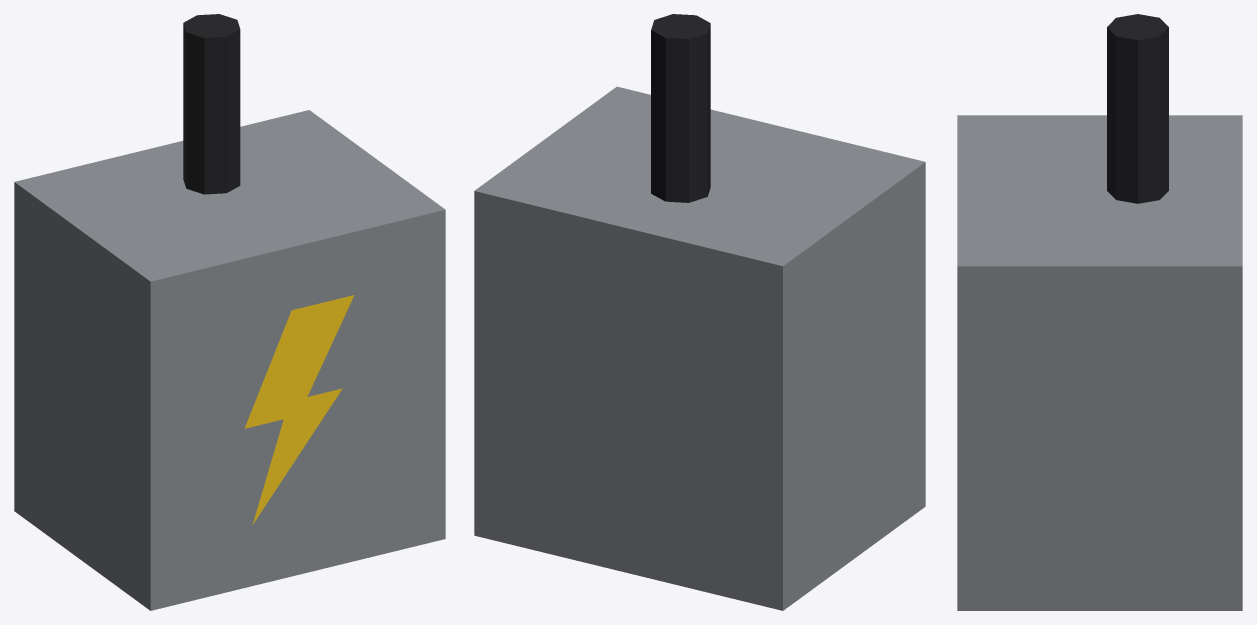
File: CentralElectrica.fbx
The picture shows the model from 3 angles, left to right: view 1: azimuth 30°, elevation 25°; view 2: azimuth 150°, elevation 25°; view 3: azimuth 270°, elevation 25°; orthographic projection. The views are drawn at different scales.
Parts seen in each view (by area): view 1: Edificio, Chimenea, Rayo; view 2: Edificio, Chimenea; view 3: Edificio, Chimenea.
Part boxes in pixels (left/top/right/bottom): Edificio: left=14, top=110, right=445, bottom=610; Chimenea: left=183, top=14, right=240, bottom=194; Rayo: left=244, top=295, right=354, bottom=524; Edificio: left=474, top=86, right=925, bottom=610; Chimenea: left=651, top=14, right=710, bottom=202; Edificio: left=957, top=115, right=1242, bottom=610; Chimenea: left=1107, top=14, right=1168, bottom=203.
Bounding box in the file's own units: 0.75 × 1.18 × 0.606.
